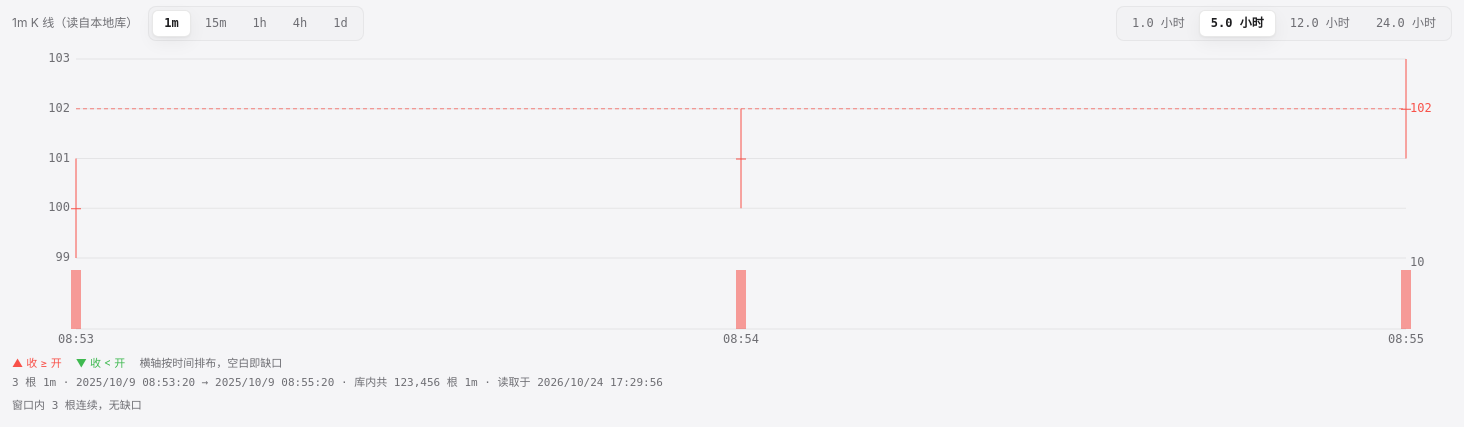
Scenario: PriceChart 取数 › 服务端给的生效上限小于请求量时如实标注，不把截断后的图当成完整数据
Check: the text "读取于" is shown, box [478,376,663,389]
Check: the text "请求被截断" is not shown
Step 1. Click the button titled "最近 1,440 根" → (1406, 23), box [1364,10,1448,37]
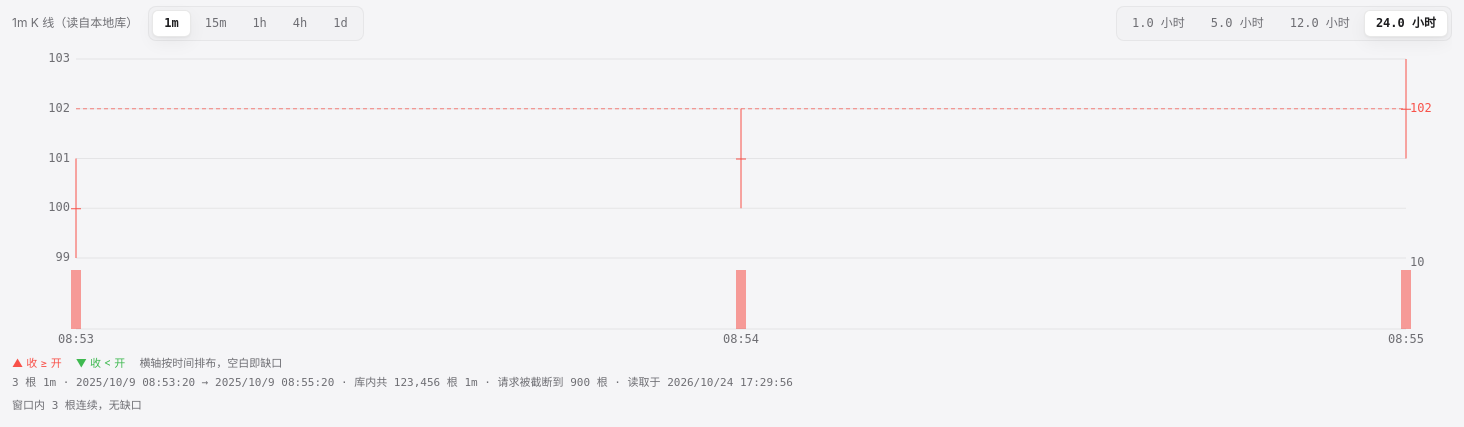
Check: the text "请求被截断到" is shown, box [478,376,608,389]
